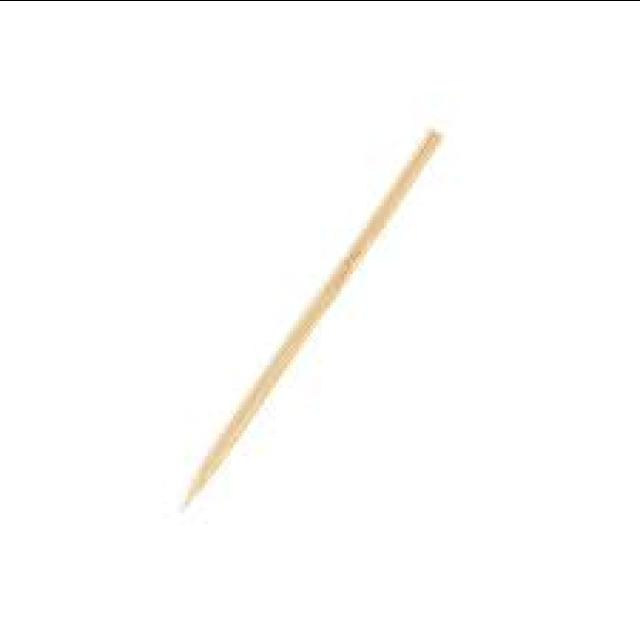stick: (184, 132, 441, 508)
